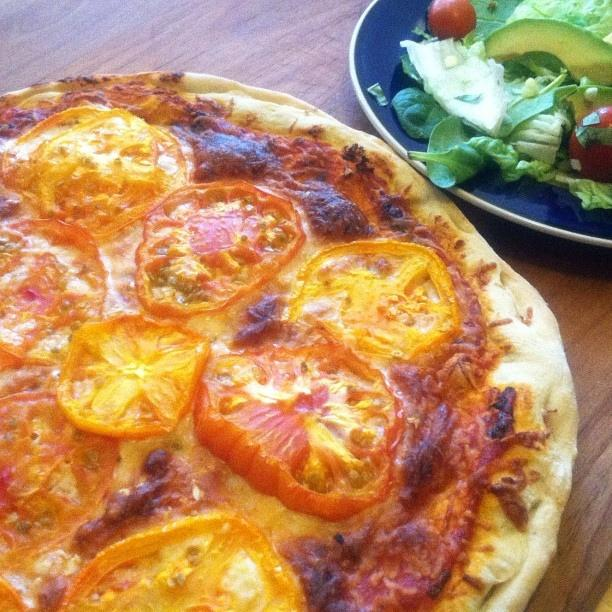avocado: (483, 16, 612, 88), (563, 81, 612, 123)
tomato: (194, 343, 406, 521), (58, 513, 308, 612), (134, 180, 306, 318), (288, 240, 464, 362), (0, 389, 118, 568), (55, 310, 213, 440), (34, 109, 188, 240), (2, 218, 107, 364), (0, 106, 108, 204), (569, 106, 612, 184), (429, 0, 476, 40), (1, 576, 31, 611)
